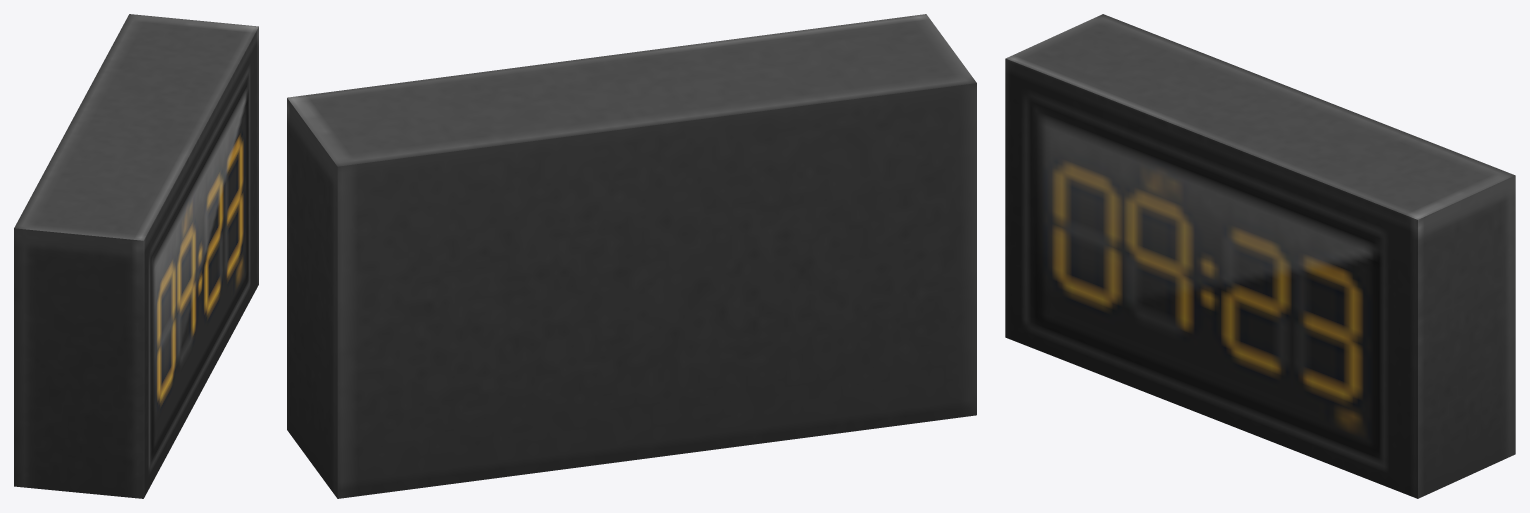
File: ShenMiRenJia_01_dianzhizhong_01.FBX
3 renders of one model, left to right at view 1: azimuth 30°, elevation 25°; view 2: azimuth 150°, elevation 25°; view 3: azimuth 270°, elevation 25°, orthographic. The views are drawn at different scales.
Visible parts, largest first — view 1: ShenMiRenJia_01_dianzhizhong_01; view 2: ShenMiRenJia_01_dianzhizhong_01; view 3: ShenMiRenJia_01_dianzhizhong_01.
Part boxes in pixels (box(x1,y1,x2,y2)): ShenMiRenJia_01_dianzhizhong_01: box(14, 14, 258, 498); ShenMiRenJia_01_dianzhizhong_01: box(287, 14, 976, 498); ShenMiRenJia_01_dianzhizhong_01: box(1005, 14, 1515, 498).
Bounding box in the file's own units: 119 × 74.87 × 124.
